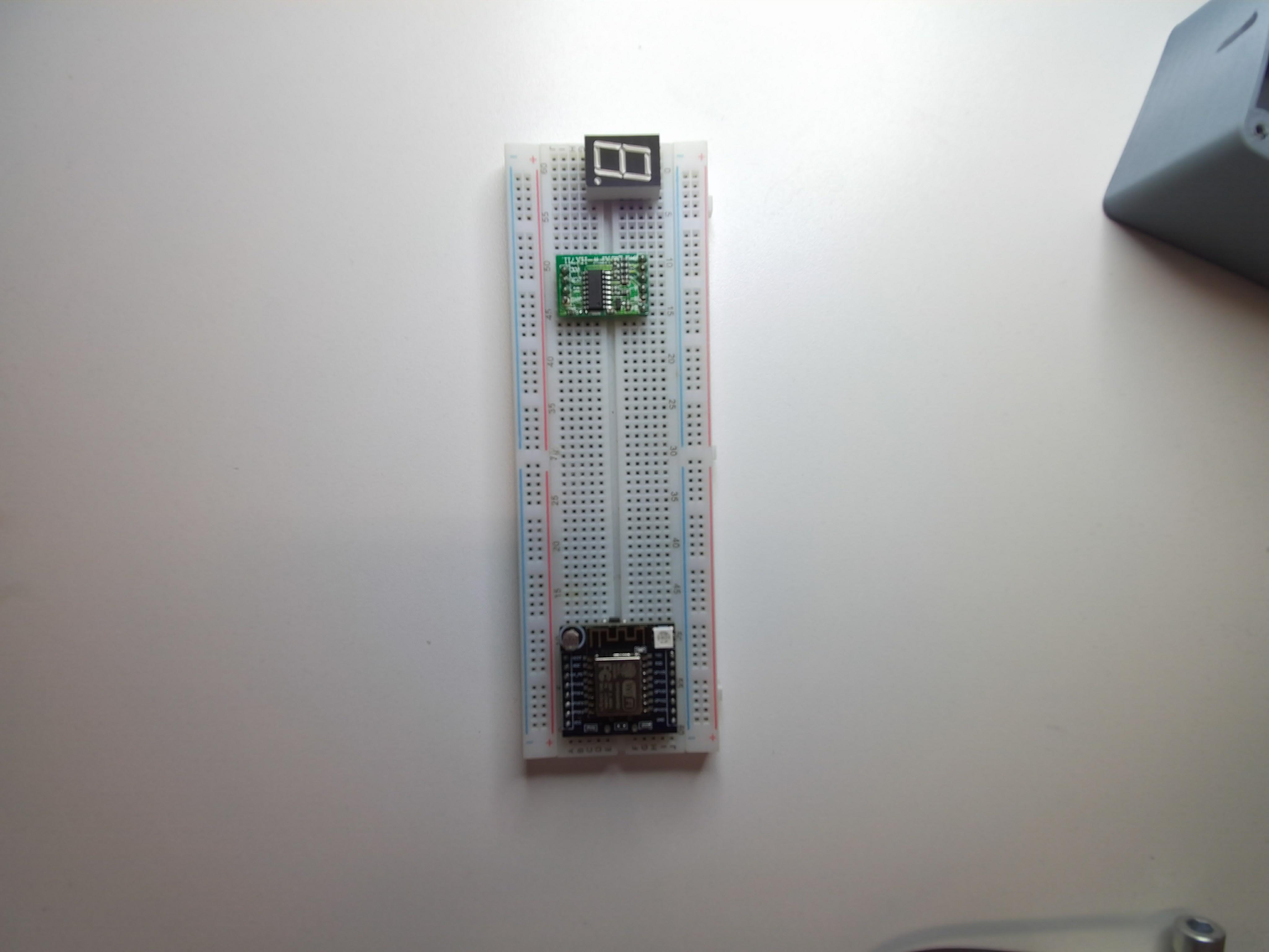base: (503, 127, 716, 748)
digit-board: (578, 127, 665, 204)
esp: (555, 619, 682, 739)
green-board: (558, 254, 651, 321)
